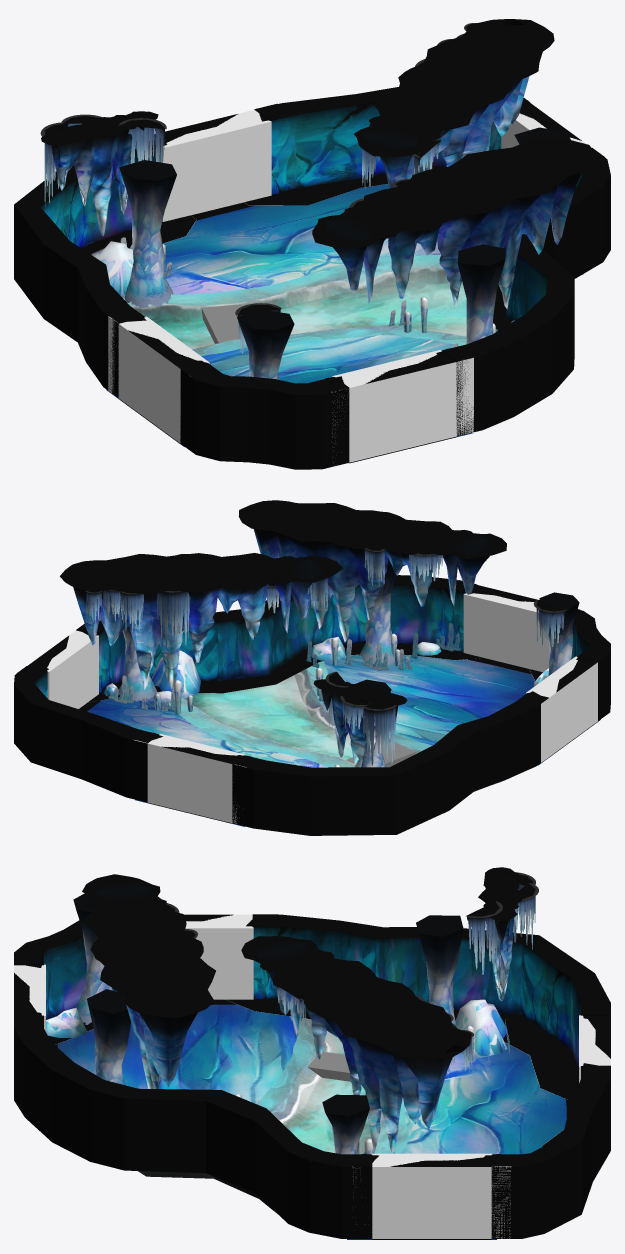
Rendered from Dungeon_072_RoomSW_006.fbx.
The picture shows the model from 3 angles, top to bottom: view 1: azimuth 30°, elevation 25°; view 2: azimuth 150°, elevation 25°; view 3: azimuth 270°, elevation 25°; orthographic projection. The views are drawn at different scales.
Visible parts, largest first — view 1: Dun_072_RoomSW_001_wall, Dun_072_RoomSW_001_top, Dun_072_RoomSW_001_ground, DoorWay_NavMask (1) (×3), Dun_072_RoomSW_001_kawa01, DoorWay_NavMask (3) (×2), Dun_072_OB_Pillar, Dun_072_Door_002 (×4), Dun_072_OB_Icicle, Dun_072_RoomSW_001_shadow, Dun_072_OB_Stone02, Cube_IceGimmick; view 2: Dun_072_RoomSW_001_wall, Dun_072_RoomSW_001_top, Dun_072_RoomSW_001_ground, DoorWay_NavMask (1) (×4), Dun_072_RoomSW_001_kawa01, DoorWay_NavMask (3) (×2), Dun_072_OB_Icicle, Dun_072_OB_Pillar, Dun_072_Door_002 (×4), Dun_072_RoomSW_001_shadow, Dun_072_OB_Ice_crystals02, Dun_072_OB_Stone02 (+3 smaller); view 3: Dun_072_RoomSW_001_wall, Dun_072_RoomSW_001_top, Dun_072_RoomSW_001_ground, Dun_072_OB_Pillar, DoorWay_NavMask (3), DoorWay_NavMask (1) (×4), Dun_072_RoomSW_001_kawa01, Dun_072_Door_002 (×4), Dun_072_RoomSW_001_shadow, Dun_072_OB_Icicle, Dun_072_OB_Stone02, Cube_IceGimmick.
Part boxes in pixels (x1,y1,x2,y2): Dun_072_RoomSW_001_wall: [14, 87, 610, 469]; Dun_072_RoomSW_001_top: [41, 19, 596, 308]; Dun_072_RoomSW_001_ground: [106, 184, 472, 446]; DoorWay_NavMask (1) (×3): [118, 110, 457, 461]; Dun_072_RoomSW_001_kawa01: [123, 255, 466, 355]; DoorWay_NavMask (3) (×2): [108, 316, 473, 462]; Dun_072_OB_Pillar: [119, 127, 570, 379]; Dun_072_Door_002 (×4): [105, 98, 604, 463]; Dun_072_OB_Icicle: [40, 23, 476, 353]; Dun_072_RoomSW_001_shadow: [82, 165, 510, 330]; Dun_072_OB_Stone02: [91, 241, 584, 298]; Cube_IceGimmick: [201, 304, 242, 343]; Dun_072_RoomSW_001_wall: [14, 575, 610, 835]; Dun_072_RoomSW_001_top: [60, 500, 506, 767]; Dun_072_RoomSW_001_ground: [87, 654, 600, 826]; DoorWay_NavMask (1) (×4): [47, 593, 577, 822]; Dun_072_RoomSW_001_kawa01: [156, 661, 509, 813]; DoorWay_NavMask (3) (×2): [134, 662, 597, 823]; Dun_072_OB_Icicle: [85, 548, 566, 765]; Dun_072_OB_Pillar: [118, 558, 579, 767]; Dun_072_Door_002 (×4): [16, 580, 607, 823]; Dun_072_RoomSW_001_shadow: [88, 642, 542, 702]; Dun_072_OB_Ice_crystals02: [108, 623, 547, 711]; Dun_072_OB_Stone02: [150, 636, 549, 698]; Dun_072_RoomSW_001_wall: [14, 914, 610, 1238]; Dun_072_RoomSW_001_top: [82, 867, 524, 1153]; Dun_072_RoomSW_001_ground: [57, 1004, 566, 1239]; Dun_072_OB_Pillar: [73, 893, 463, 1154]; DoorWay_NavMask (3): [352, 1158, 511, 1238]; DoorWay_NavMask (1) (×4): [14, 923, 597, 1238]; Dun_072_RoomSW_001_kawa01: [138, 1016, 408, 1210]; Dun_072_Door_002 (×4): [14, 914, 610, 1239]; Dun_072_RoomSW_001_shadow: [48, 998, 578, 1146]; Dun_072_OB_Icicle: [164, 872, 538, 1073]; Dun_072_OB_Stone02: [46, 999, 507, 1212]; Cube_IceGimmick: [307, 1051, 350, 1081].
Size of what is drawn, in the model's own units: 15 by 5.79 by 15.
